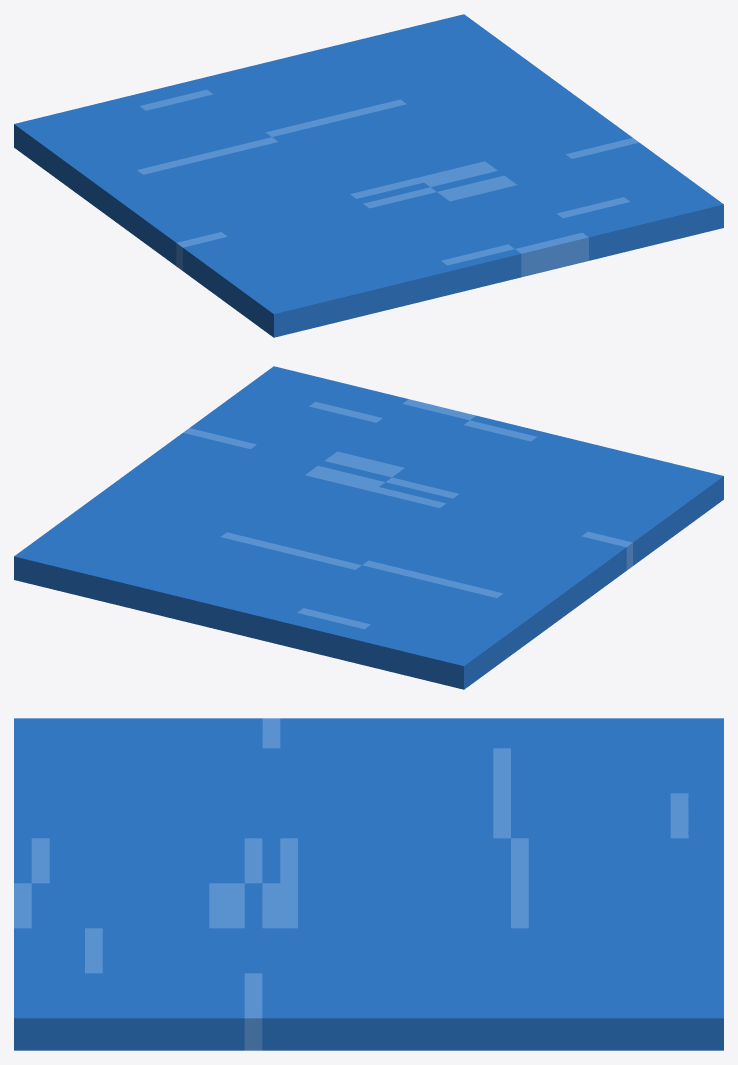
Rendered from water_tile.glb.
3 views of the same model, one above another, from view 1: azimuth 30°, elevation 25°; view 2: azimuth 150°, elevation 25°; view 3: azimuth 270°, elevation 25° (orthographic). The views are drawn at different scales.
Visible parts, largest first — view 1: water; view 2: water; view 3: water.
Boxes of the visible parts, box(x1,y1,x2,y2) form: water: box(14, 14, 723, 337); water: box(14, 366, 723, 689); water: box(14, 718, 723, 1050).
Bounding box in the file's own units: 4 × 0.2 × 4.
